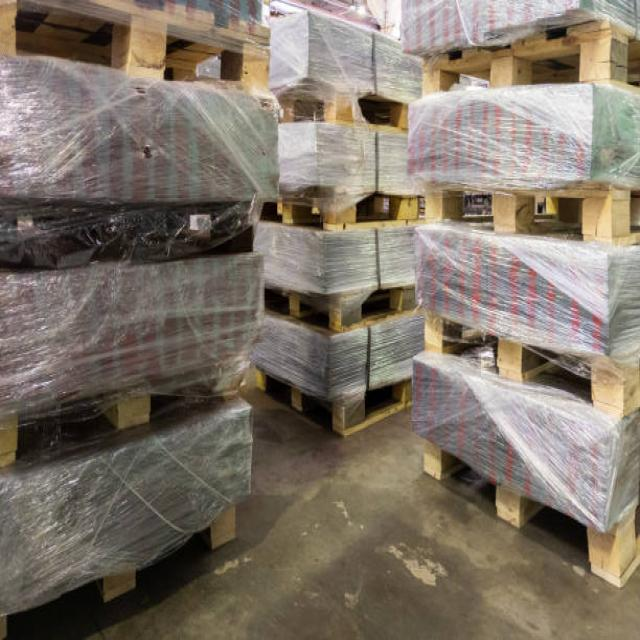Wooden-Pallets: (415, 435, 640, 593), (419, 178, 627, 249), (257, 361, 409, 446)
